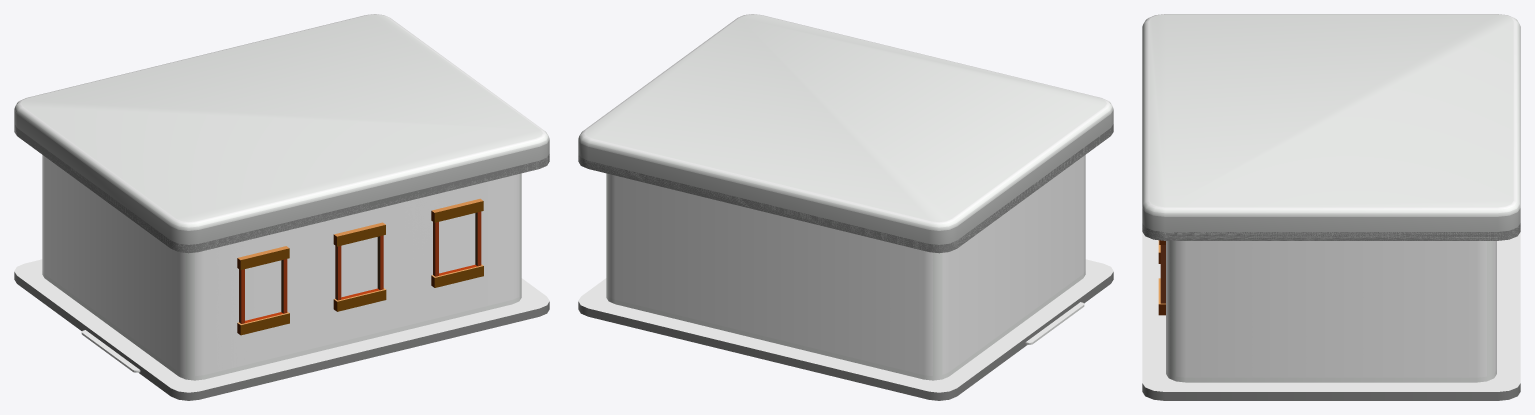
The model's file is humanchain_assets.fbx.
3 views of the same model, side by side, from view 1: azimuth 30°, elevation 25°; view 2: azimuth 150°, elevation 25°; view 3: azimuth 270°, elevation 25° (orthographic). The views are drawn at different scales.
Visible parts, largest first — view 1: humanchain_building_windowed_roof, humanchain_building_windowed, humanchain_building_forglass, humanchain_building_windows; view 2: humanchain_building_windowed_roof, humanchain_building_windowed, humanchain_building_forglass; view 3: humanchain_building_windowed_roof, humanchain_building_windowed, humanchain_building_forglass, humanchain_building_windows.
Boxes of the visible parts, left/top/right/bottom form: humanchain_building_windowed_roof: left=14, top=14, right=549, bottom=252; humanchain_building_windowed: left=14, top=125, right=549, bottom=400; humanchain_building_forglass: left=42, top=155, right=521, bottom=380; humanchain_building_windows: left=237, top=198, right=483, bottom=335; humanchain_building_windowed_roof: left=578, top=14, right=1113, bottom=252; humanchain_building_windowed: left=578, top=124, right=1113, bottom=400; humanchain_building_forglass: left=606, top=157, right=1085, bottom=380; humanchain_building_windowed_roof: left=1142, top=14, right=1520, bottom=240; humanchain_building_windowed: left=1142, top=223, right=1520, bottom=400; humanchain_building_forglass: left=1166, top=241, right=1496, bottom=381; humanchain_building_windows: left=1158, top=240, right=1165, bottom=315.
Size of the model in its own units: 11.12 by 5.24 by 8.83.
